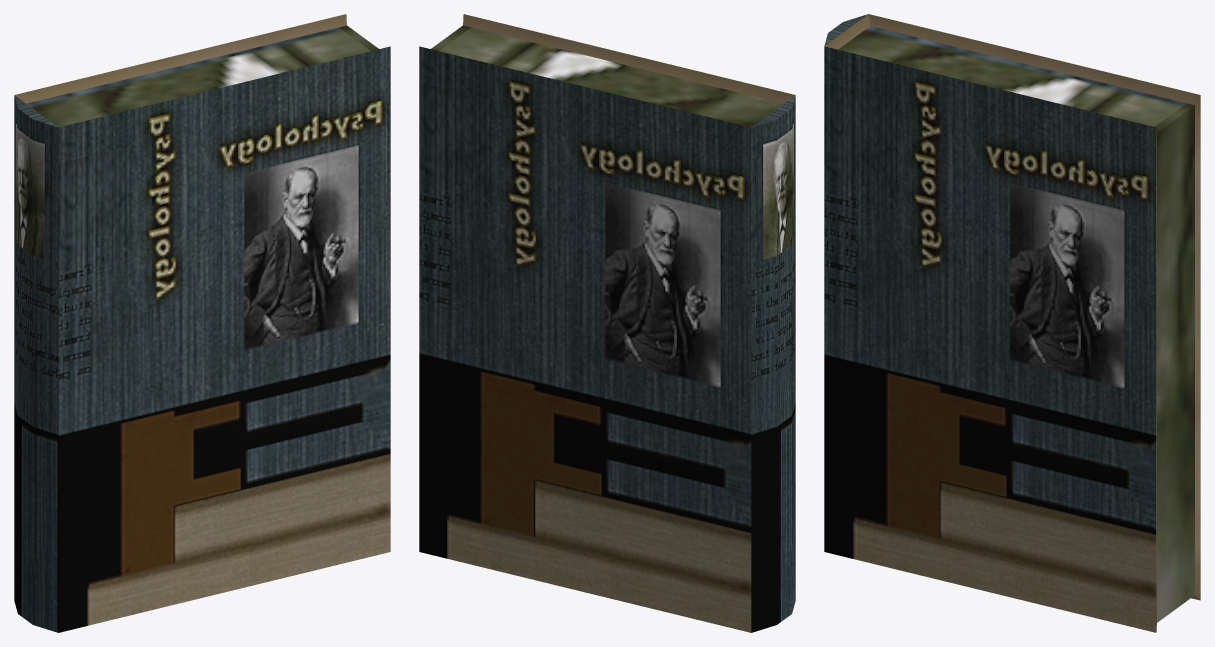
File: office_singlebook02.dae
3 views of the same model, side by side, from view 1: azimuth 30°, elevation 25°; view 2: azimuth 150°, elevation 25°; view 3: azimuth 330°, elevation 25° (orthographic).
Parts seen in each view (by area): view 1: book; view 2: book; view 3: book.
Part boxes in pixels (<box>): book: <box>14,14,390,632</box>; book: <box>419,14,795,632</box>; book: <box>824,14,1200,632</box>.
Size of what is drawn, in the model's own units: 0.2351 by 0.3311 by 0.0525.
